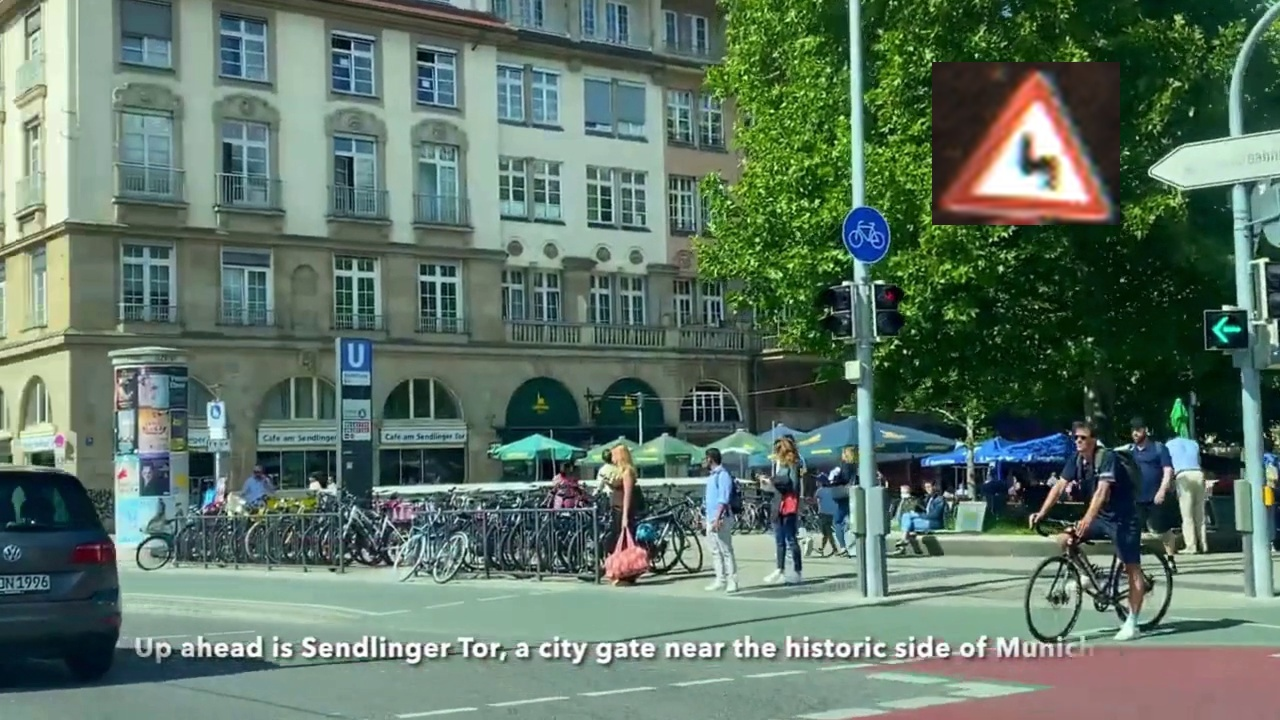Double curve: (932, 62, 1120, 225)
